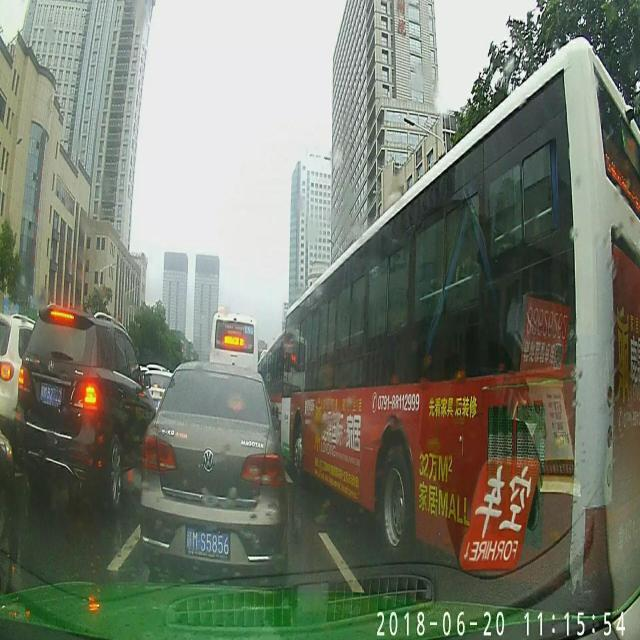car: (144, 358, 286, 586), (16, 308, 157, 504), (0, 312, 31, 425), (142, 362, 176, 420)
